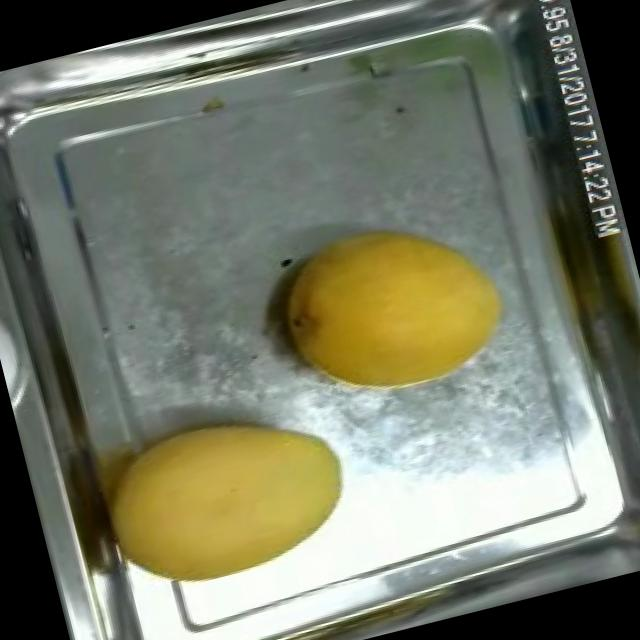fruit: (74, 379, 367, 614), (250, 185, 528, 425)
